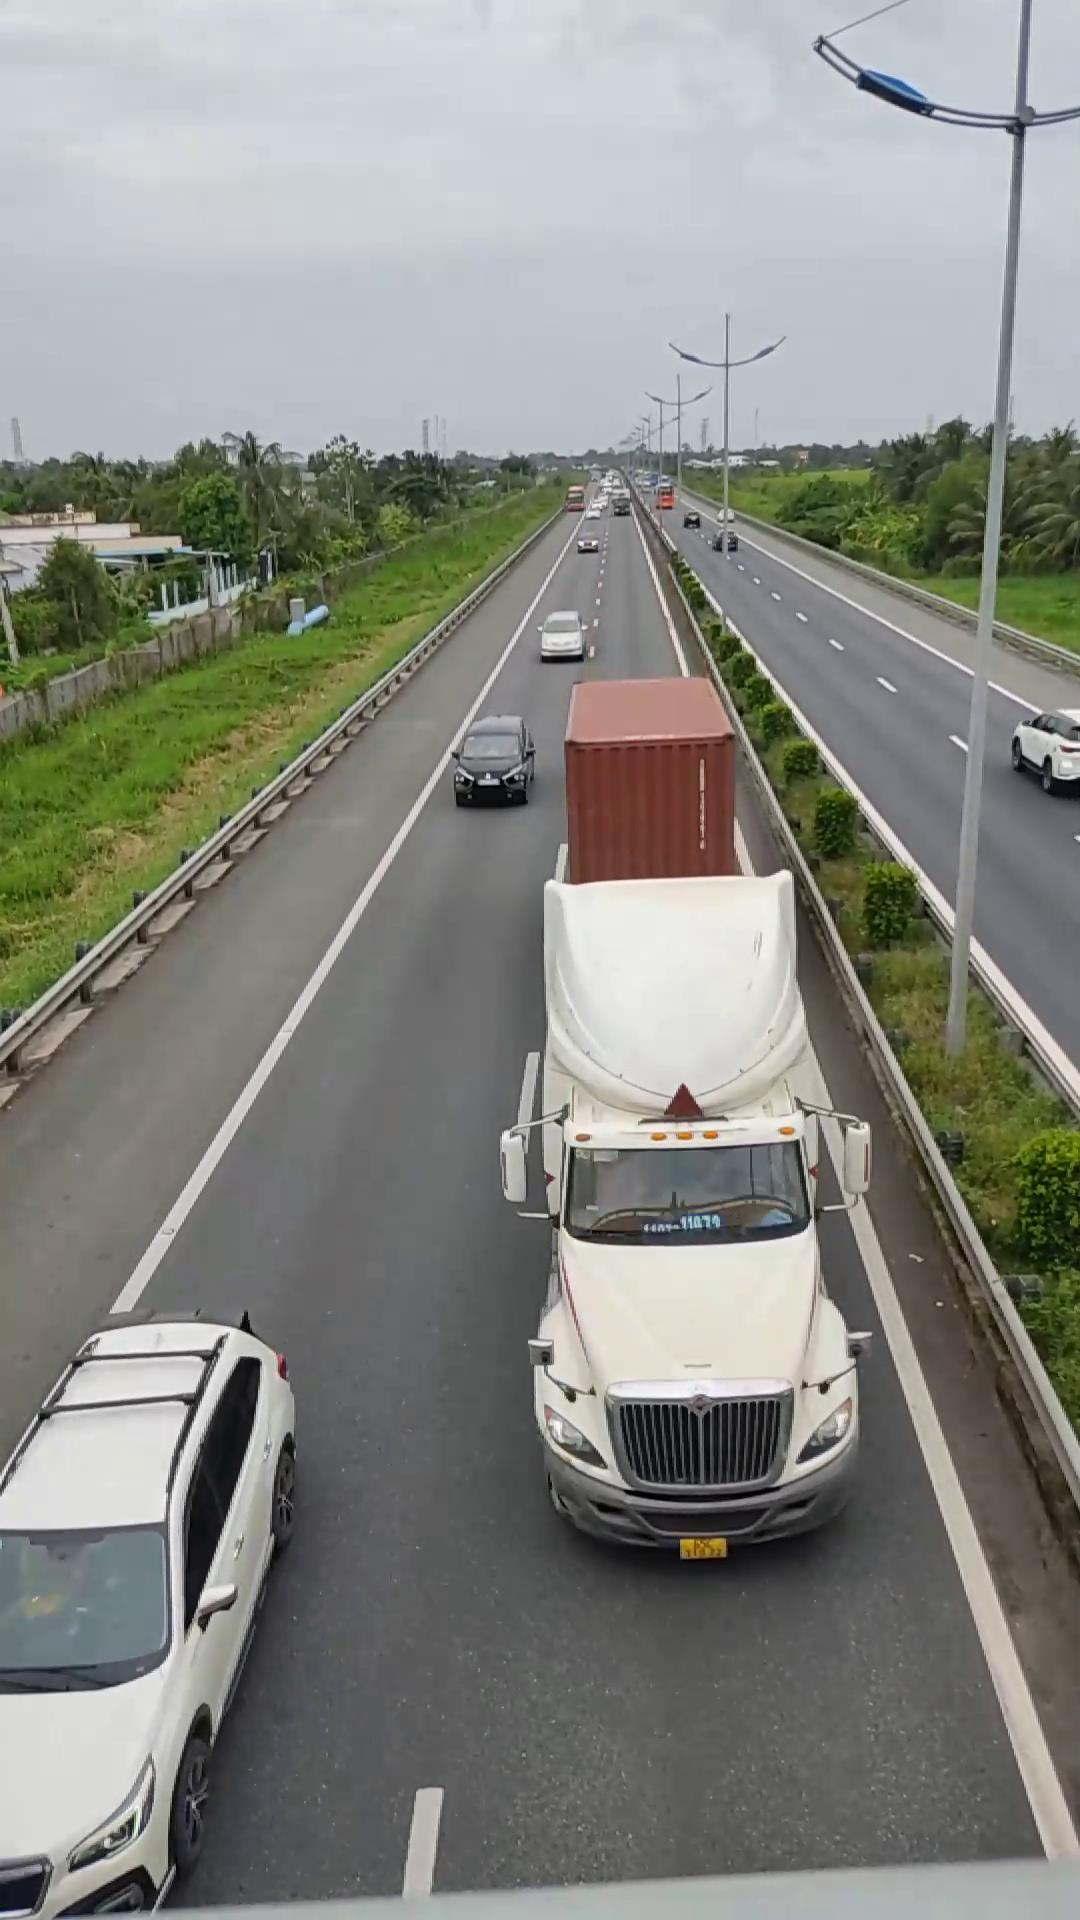car: (0, 1309, 305, 1907), (450, 712, 537, 804), (1010, 705, 1080, 793)
container: (510, 657, 858, 1555)
